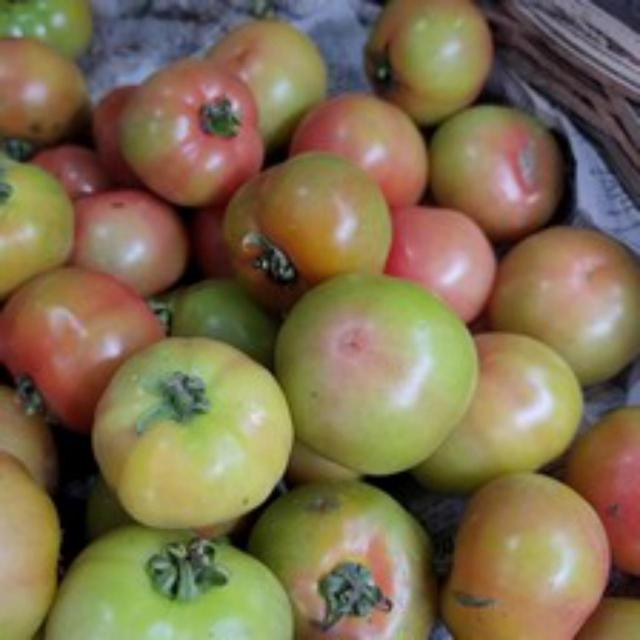tomato: (0, 254, 180, 437)
